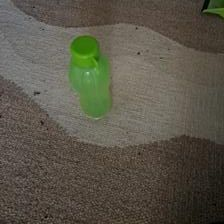bottle: (67, 32, 112, 118)
